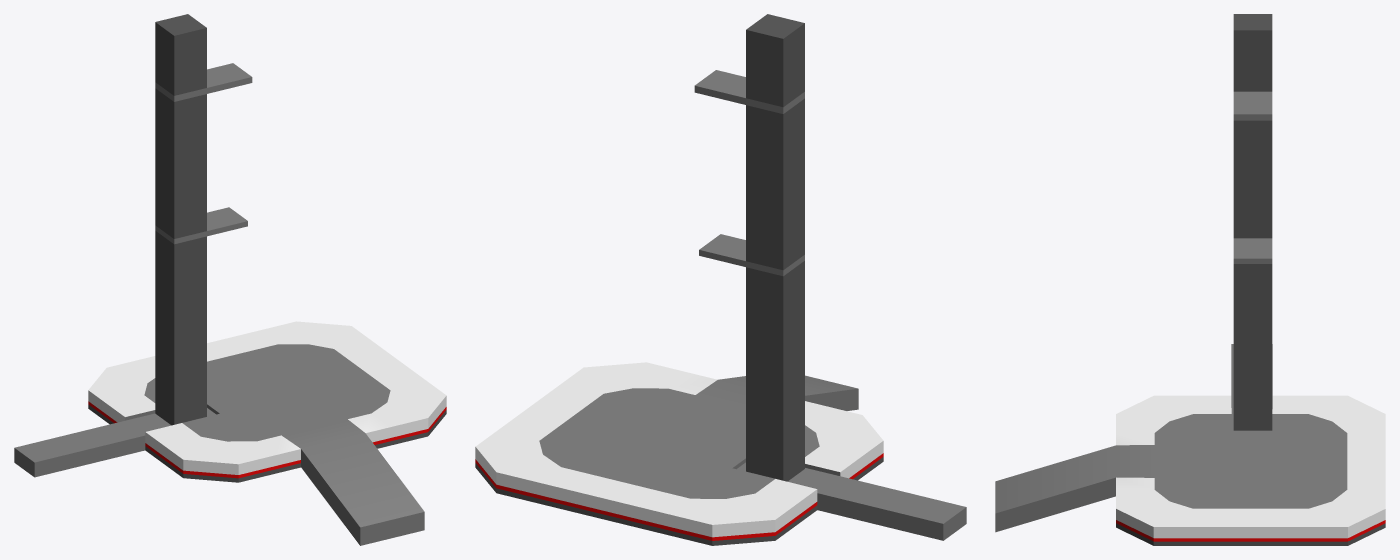
Rendered from launch-pad.fbx.
The picture shows the model from 3 angles, left to right: view 1: azimuth 30°, elevation 25°; view 2: azimuth 150°, elevation 25°; view 3: azimuth 270°, elevation 25°; orthographic projection. The views are drawn at different scales.
Parts seen in each view (by area): view 1: Cube, Cube.001; view 2: Cube, Cube.001; view 3: Cube, Cube.001.
Part boxes in pixels (x1,y1,x2,y2): Cube: (14, 321, 446, 545); Cube.001: (155, 14, 252, 425); Cube: (475, 362, 966, 545); Cube.001: (694, 14, 804, 481); Cube: (995, 344, 1385, 545); Cube.001: (1233, 14, 1272, 430).
Size of the model in its own units: 2279 by 2571 by 2015.
